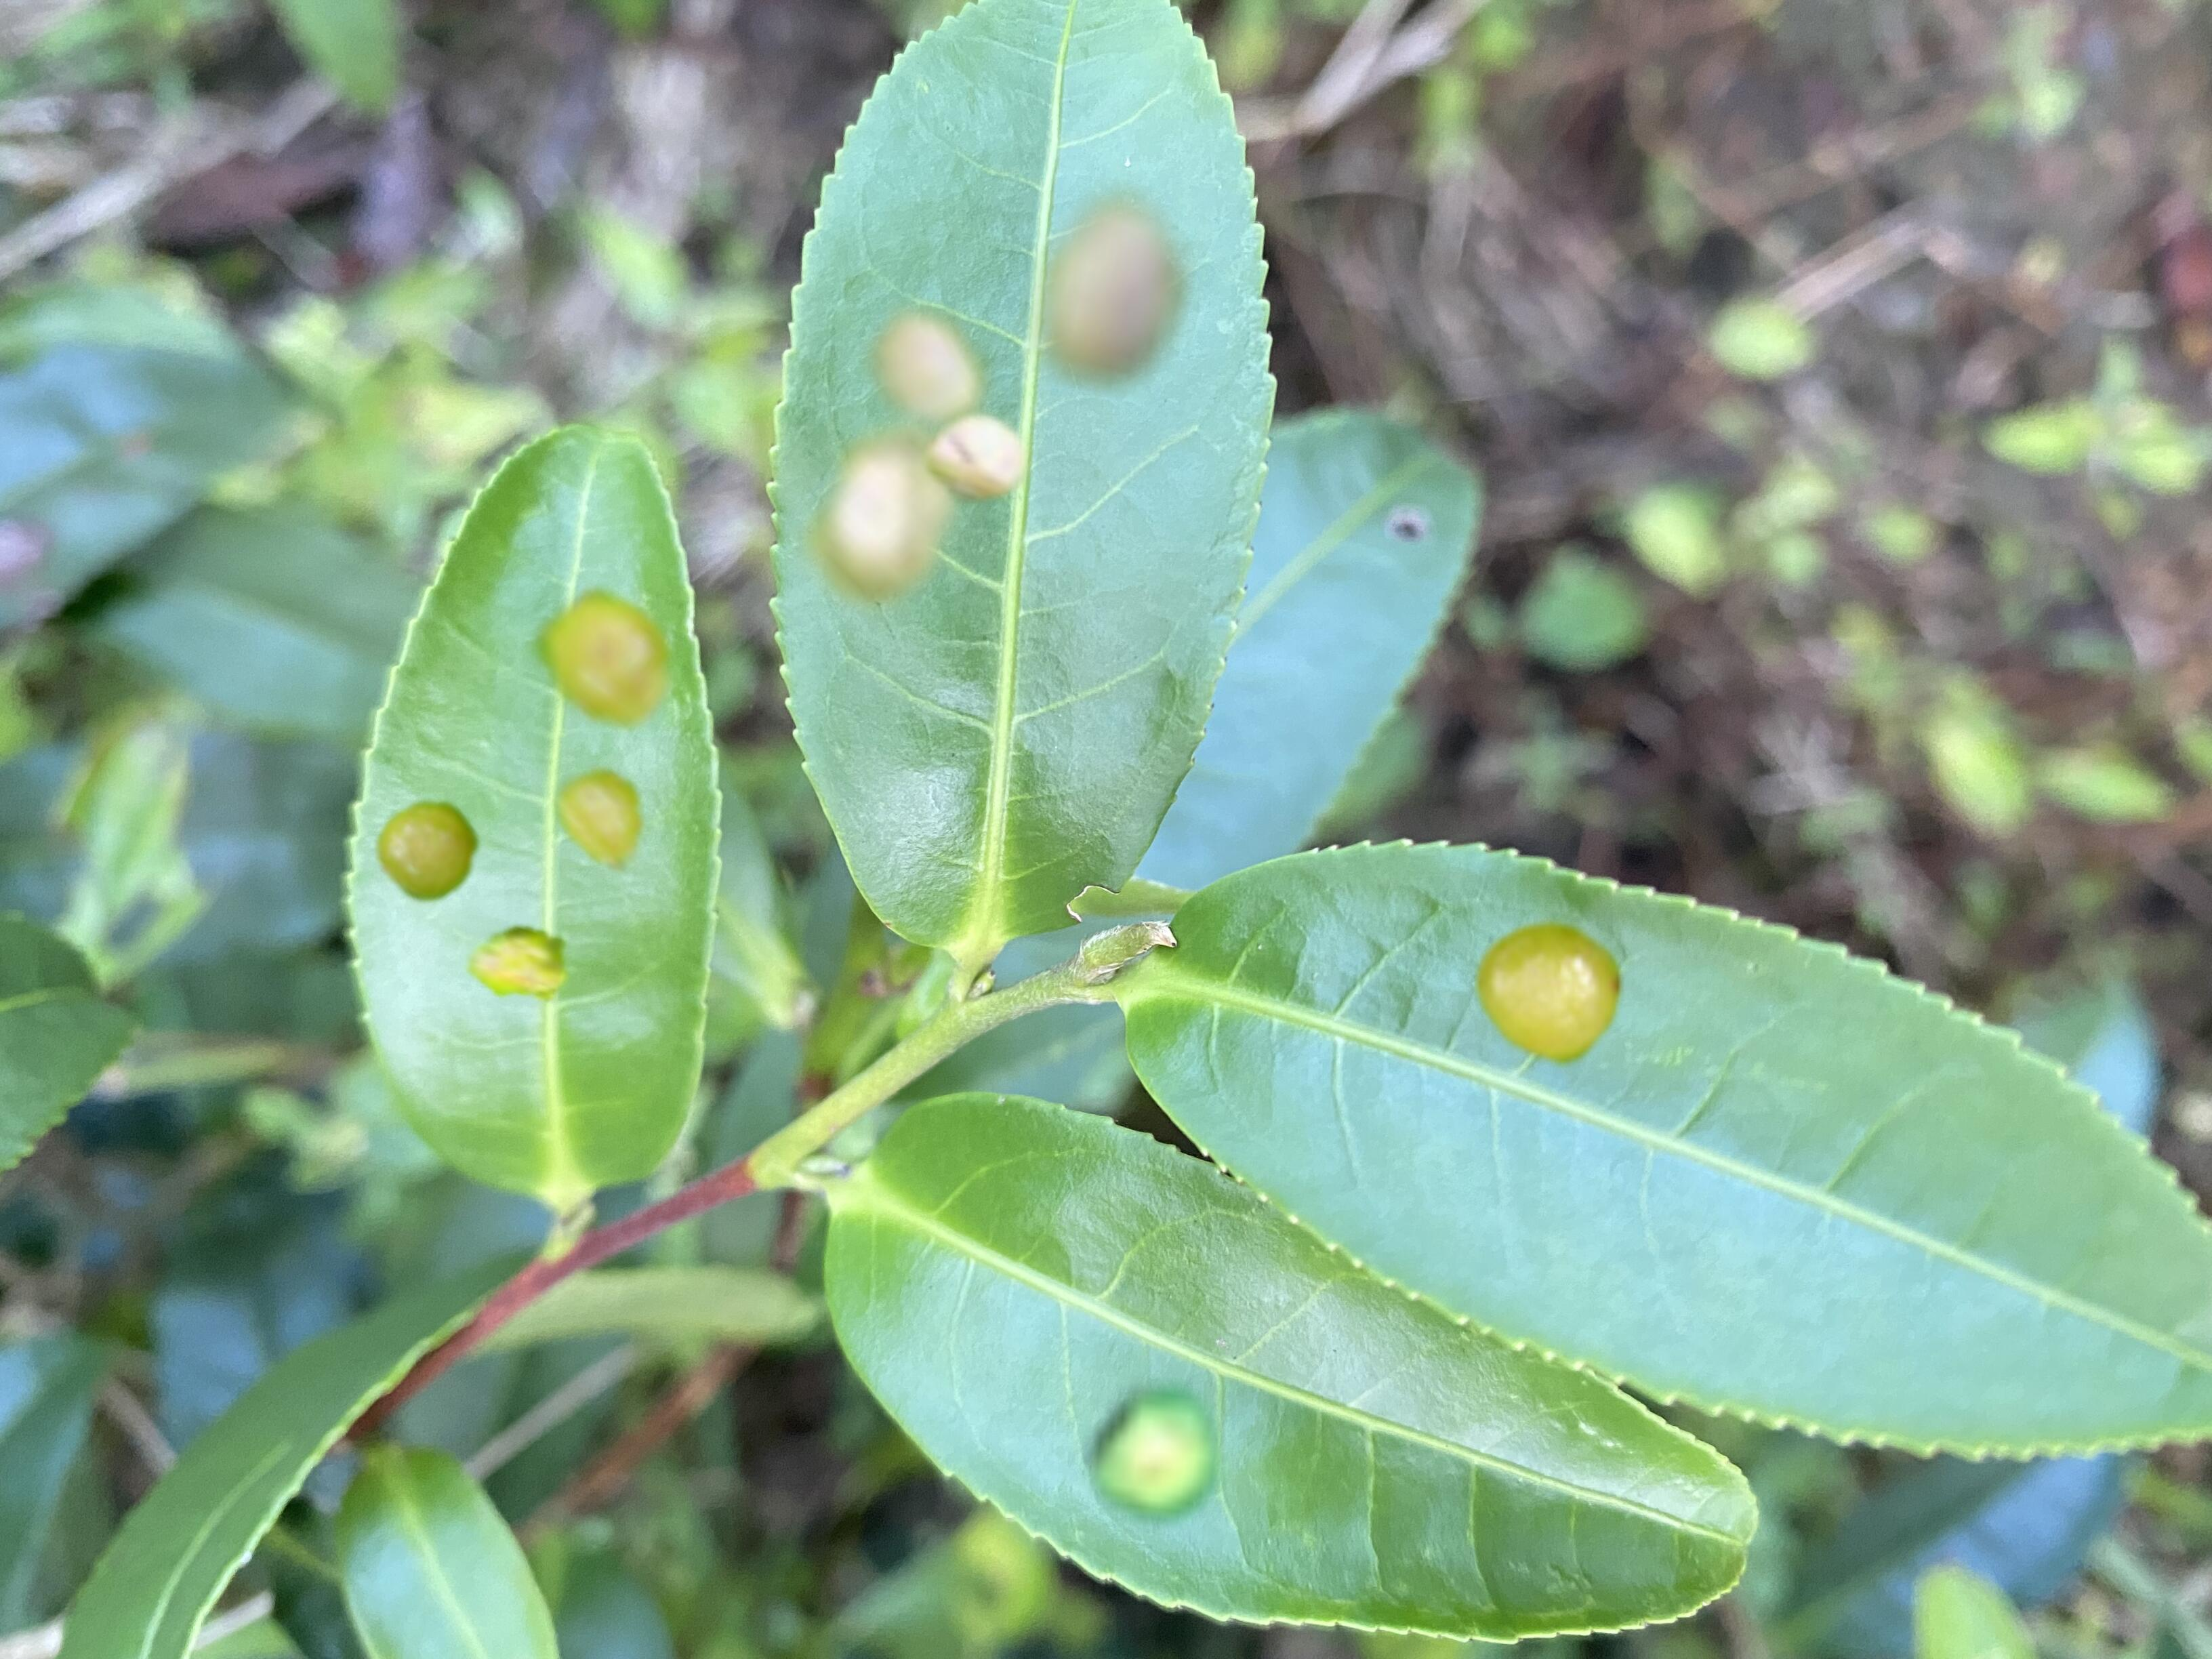chabing_high: (766, 2, 1280, 958), (340, 423, 721, 1202)
chabing_low: (1113, 835, 2210, 1466), (824, 1094, 1764, 1643)
